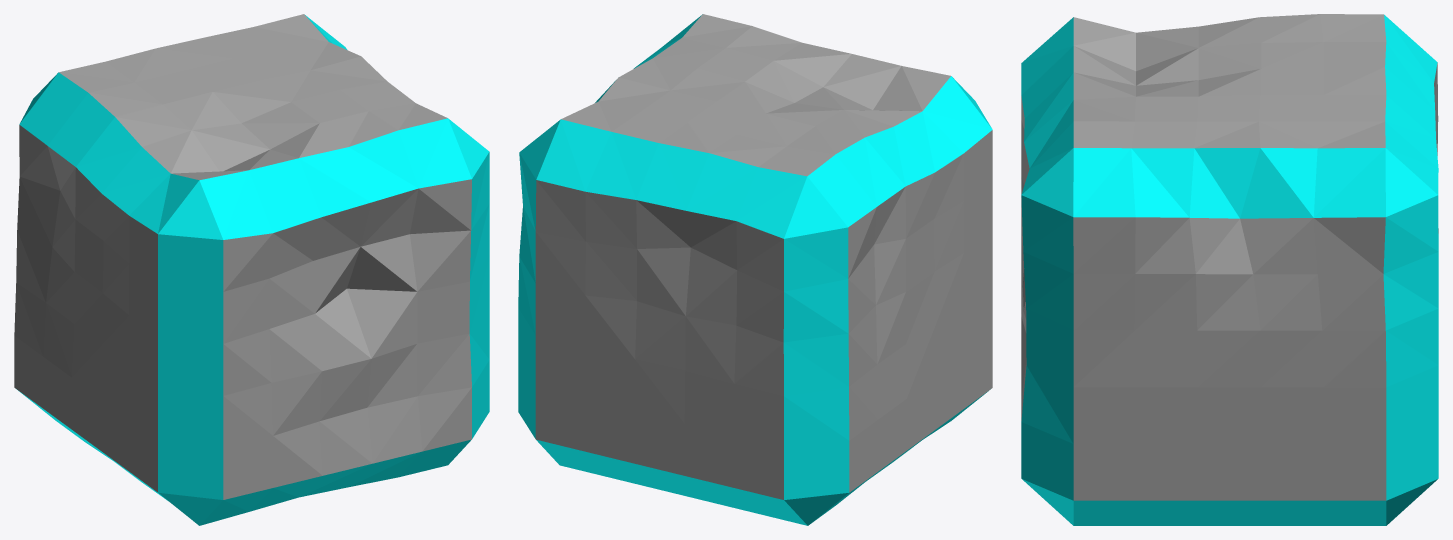
3 renders of one model, left to right at view 1: azimuth 30°, elevation 25°; view 2: azimuth 150°, elevation 25°; view 3: azimuth 270°, elevation 25°, orthographic. The views are drawn at different scales.
Visible parts, largest first — view 1: box_01.001; view 2: box_01.001; view 3: box_01.001.
Part boxes in pixels (x1,y1,x2,y2): box_01.001: (14,14,489,525); box_01.001: (518,14,992,525); box_01.001: (1021,14,1438,525).
Bounding box in the file's own units: 200 × 202 × 200.
